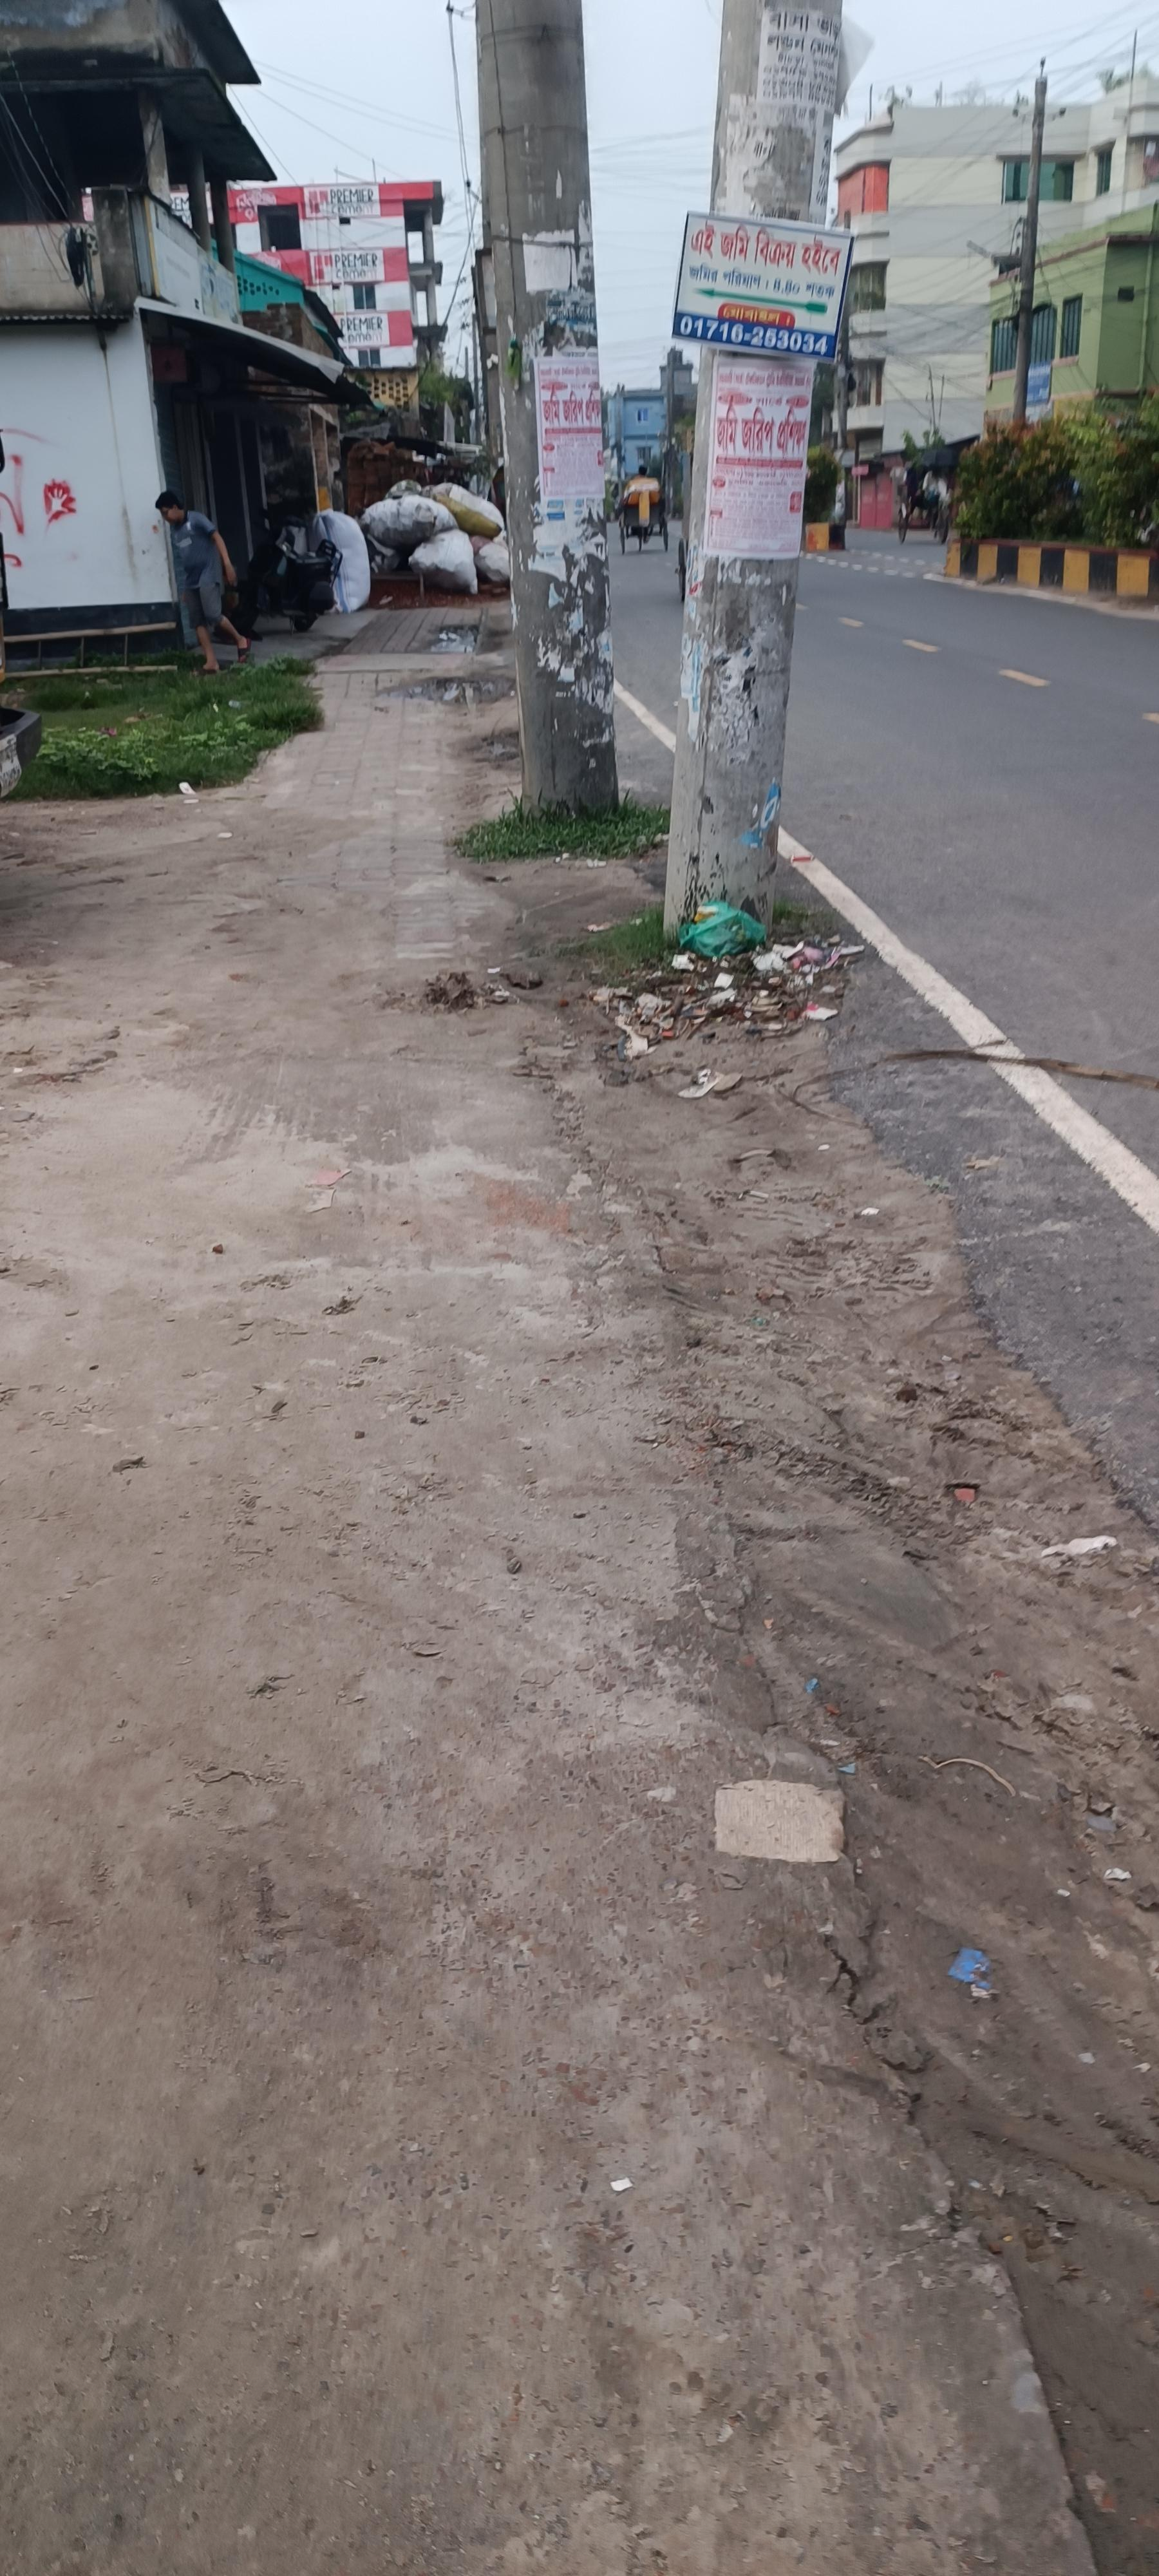Fallen-tree: (619, 488, 668, 552)
Garbage-bin: (154, 490, 251, 674)
Light-pole: (660, 2, 849, 948), (471, 3, 621, 820)
Pothole: (5, 677, 987, 2571)
